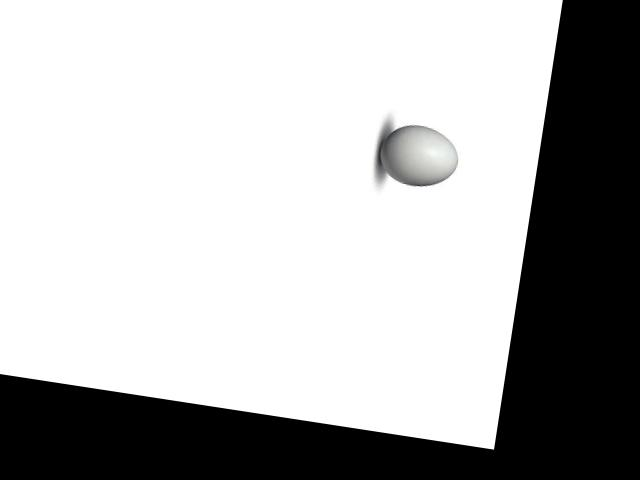egg: (376, 120, 463, 190)
